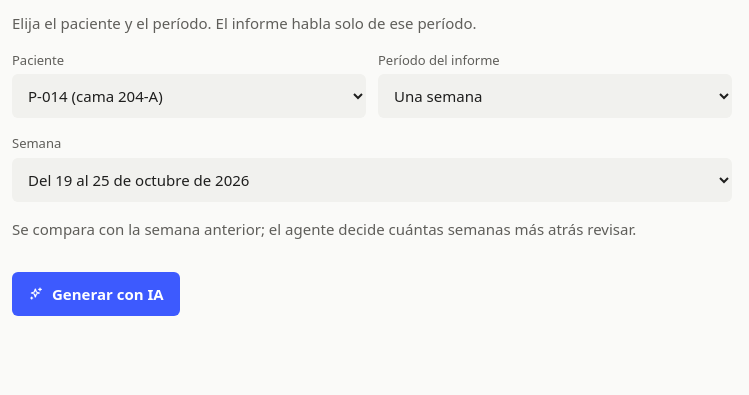
Scenario: ReportGenerateComponent (vInfGenerar del mockup) › si el servidor responde 409 con la semana que falta, el mensaje queda junto al boton
Select "Un mes (cuatro semanas)" in the dropdown with id "ig-tipo": (555, 96) [378,74,732,118]
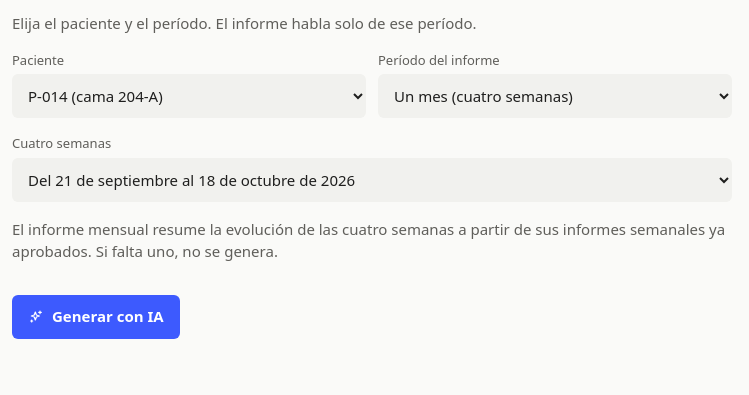
Click the button with id "ig-btn": (96, 316) [12,294,180,338]
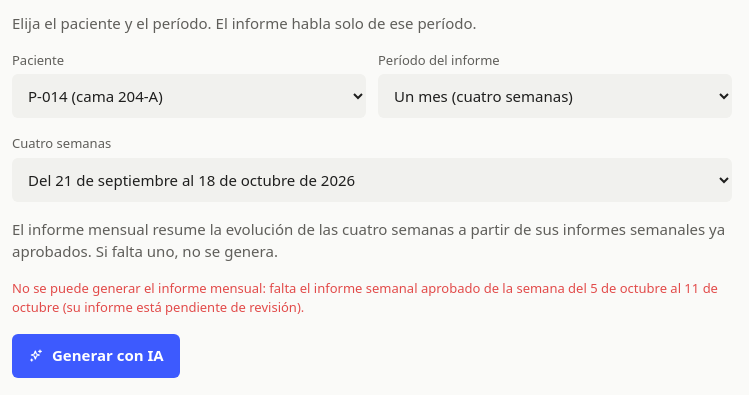
Now the text with id "ig-err" shows "su informe está pendiente de revisión", box [12,278,718,316]
